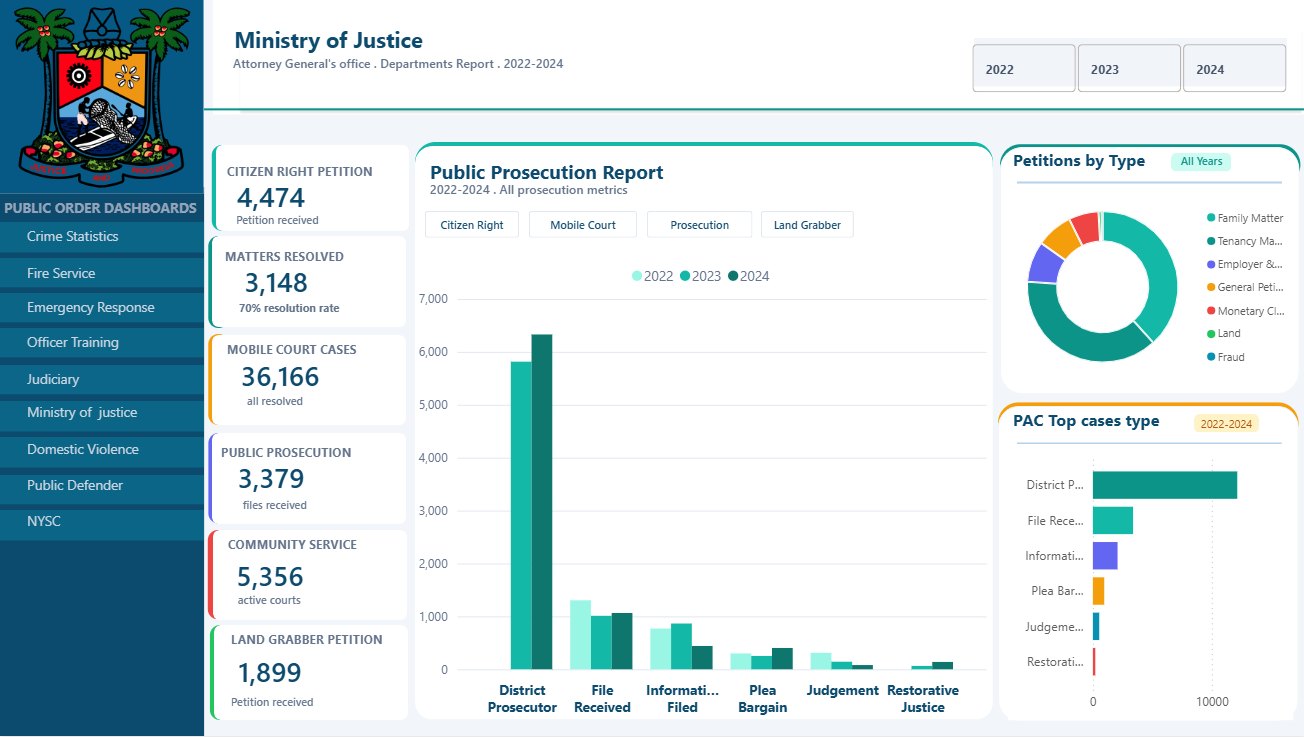

Layout of this report page (visuals, bound fields, positions):
{"tool":"powerbi","page":{"name":"Ministry of Justice","canvas":[1280,720],"ordinal":5},"visuals":[{"type":"shape","box":[95,611.6,242.8,93],"z":0},{"type":"shape","box":[407.1,99.6,565.3,118.2],"z":1000},{"type":"shape","box":[0,182.7,200.6,537.3],"z":2000},{"type":"shape","box":[0,499.1,200.6,29.9],"z":3000},{"type":"shape","box":[0,464.5,200.6,28.7],"z":4000},{"type":"shape","box":[0,427.5,200.6,29.9],"z":5000},{"type":"shape","box":[0,391.6,200.6,29.9],"z":6000},{"type":"shape","box":[0,357,200.6,28.7],"z":7000},{"type":"shape","box":[0,321.2,200.6,28.7],"z":8000},{"type":"shape","box":[0,286.6,200.6,28.7],"z":9000},{"type":"shape","box":[0,251.9,200.6,28.7],"z":10000},{"type":"shape","box":[0,217.3,200.6,29.9],"z":11000},{"type":"shape","box":[94.2,518.6,240.6,87.4],"z":12000},{"type":"shape","box":[209.3,518.3,189.7,88],"z":13000},{"type":"textbox","box":[211.8,0,373,70.6],"z":14000},{"type":"shape","box":[94.2,423.3,241.7,88.5],"z":15000},{"type":"shape","box":[208.3,423.4,189.7,89],"z":16000},{"type":"shape","box":[93.9,326.6,241.5,89],"z":17000},{"type":"shape","box":[208.3,327.6,189.7,88],"z":18000},{"type":"shape","box":[93.9,230.8,241.5,90],"z":19000},{"type":"shape","box":[208.3,230.8,189.7,89],"z":20000},{"type":"shape","box":[97.6,141.8,240.6,84],"z":21000},{"type":"shape","box":[212.2,141.8,188.7,84.1],"z":22000},{"type":"shape","box":[977,375.6,293.9,76],"z":23000},{"type":"shape","box":[209.2,0,1071,112.2],"z":24000},{"type":"shape","box":[0,0,200,189.3],"z":25000},{"type":"shape","box":[947.5,31.8,317.7,59],"z":26000},{"type":"advancedSlicerVisual","fields":{"Values":["YearTable.Year"]},"box":[931.6,35.2,348.4,63.5],"z":27000},{"type":"shape","box":[977,397.2,293.9,308.7],"z":28000},{"type":"shape","box":[407.1,143.1,565.3,560.9],"z":29000},{"type":"shape","box":[979.1,111,293.7,99.1],"z":30000},{"type":"shape","box":[979.3,144.1,292.8,241.7],"z":31000},{"type":"textbox","box":[218.1,153.5,179.9,35.2],"z":32000},{"type":"card","fields":{"Values":["MOJ_Summary_KPIs.Received"]},"box":[218.5,166,95.5,53.7],"z":33000},{"type":"shape","box":[995.2,391.5,258.7,85.1],"z":35000},{"type":"shape","box":[995.4,131,259.1,94.9],"z":36000},{"type":"textbox","box":[986.7,140.6,198.7,48.7],"z":37000},{"type":"textbox","box":[223.5,47.7,377.9,52.2],"z":38000},{"type":"textbox","box":[211.2,18.6,222,54.8],"z":44000},{"type":"textbox","box":[0,189.7,208.3,39.1],"z":45000},{"type":"textbox","box":[22.7,217.3,125.4,29.9],"z":46000},{"type":"textbox","box":[22.7,253.1,115.8,27.5],"z":47000},{"type":"textbox","box":[22.7,286.6,146.9,28.7],"z":48000},{"type":"textbox","box":[22.7,321.2,146.9,28.7],"z":49000},{"type":"textbox","box":[22.7,357,132.5,28.7],"z":50000},{"type":"textbox","box":[22.7,389.3,132.5,34.6],"z":51000},{"type":"textbox","box":[22.7,425.1,132.5,34.6],"z":52000},{"type":"textbox","box":[22.7,460.9,132.5,32.2],"z":53000},{"type":"textbox","box":[22.7,495.5,115.8,33.4],"z":54000},{"type":"textbox","box":[216.1,236.6,183.8,30.3],"z":55000},{"type":"card","fields":{"Values":["MOJ_Summary_KPIs.Resolved"]},"box":[223.5,249.6,94.2,53.3],"z":56000},{"type":"textbox","box":[218.1,327.6,141.8,29.3],"z":57000},{"type":"card","fields":{"Values":["MOJ_Summary_KPIs.Mobile Court Cases"]},"box":[223.5,341.6,102.1,53.3],"z":58000},{"type":"textbox","box":[212.2,428.3,204.4,29.3],"z":59000},{"type":"card","fields":{"Values":["MOJ_Summary_KPIs.PP Files Received"]},"box":[222.9,441,86.1,53.8],"z":60000},{"type":"shape","box":[210.2,611.2,189.7,92.9],"z":61000},{"type":"card","fields":{"Values":["MOJ_Summary_KPIs.Community Service Cases"]},"box":[222.4,536.7,86.2,53.3],"z":62000},{"type":"card","fields":{"Values":["MOJ_Summary_KPIs.LG Petitions"]},"box":[222.4,630.9,86.2,53.3],"z":63000},{"type":"textbox","box":[219,518.6,148.7,30.6],"z":64000},{"type":"textbox","box":[222.4,611.6,167.9,35.2],"z":65000},{"type":"textbox","box":[237.2,377.9,98.7,28.4],"z":66000},{"type":"textbox","box":[214.5,478.9,111.2,34],"z":67000},{"type":"textbox","box":[223.5,571.9,84,48.8],"z":68000},{"type":"textbox","box":[222.4,671.8,154.3,31.8],"z":69000},{"type":"donutChart","fields":{"Category":["MOJ_CR_By_Type.Petition_Type"],"Y":["Sum(MOJ_CR_By_Type.Received)"]},"box":[979.3,182.7,292.8,195.2],"z":76000},{"type":"textbox","box":[208.8,200.9,129.4,31.8],"z":77000},{"type":"card","fields":{"Values":["MOJ_Summary_KPIs.CR Resolution % Label"]},"box":[208.7,286.2,150.8,35.1],"z":81000},{"type":"clusteredColumnChart","fields":{"Category":["MOJ_Public_Prosecution.Metric"],"Y":["Sum(MOJ_Public_Prosecution.Value)"],"Series":["MOJ_Public_Prosecution.Year"]},"box":[405.1,249.6,566.2,458.4],"z":85000},{"type":"textbox","box":[416.6,149.6,418.5,39.1],"z":86000},{"type":"textbox","box":[416.5,171.3,324.5,29.5],"z":87000},{"type":"shape","title":"v","box":[633.2,206.5,103.3,26.1],"z":91000},{"type":"shape","title":"v","box":[518.6,206.5,105.5,26.1],"z":92000},{"type":"shape","title":"v","box":[416.5,206.5,91.9,26.1],"z":93000},{"type":"shape","title":"v","box":[745.5,206.5,90.8,26.1],"z":94000},{"type":"textbox","box":[986.6,395,198.5,39.1],"z":95000},{"type":"shape","box":[1146.1,149.8,59,18.2],"z":96000},{"type":"card","fields":{"Values":["MOJ_Mobile_Court.Mobile Court Badge"]},"box":[1150.6,148.7,49.9,21.6],"z":97000},{"type":"shape","box":[1168.8,405.1,63.5,18.2],"z":98000},{"type":"shape","box":[200.9,61.3,1079.1,90.7],"z":99000},{"type":"image","box":[0,0,200.5,189.7],"z":100000},{"type":"clusteredBarChart","fields":{"Category":["MOJ_Public_Prosecution.Metric"],"Y":["Sum(MOJ_Public_Prosecution.Value)"]},"box":[986.3,434.6,279.4,269.9],"z":101000}]}

Visuals, with their boxes in screenshot pixels (x1, y1, x2, y2), scaled from the page's 1280x720 canvas onto the 1304x737 screenshot:
shape: <box>97,626,344,721</box>
shape: <box>415,102,991,223</box>
shape: <box>0,187,204,736</box>
shape: <box>0,511,204,541</box>
shape: <box>0,475,204,505</box>
shape: <box>0,438,204,468</box>
shape: <box>0,401,204,431</box>
shape: <box>0,365,204,395</box>
shape: <box>0,329,204,358</box>
shape: <box>0,293,204,323</box>
shape: <box>0,258,204,287</box>
shape: <box>0,222,204,253</box>
shape: <box>96,531,341,620</box>
shape: <box>213,531,406,621</box>
textbox: <box>216,0,596,72</box>
shape: <box>96,433,342,524</box>
shape: <box>212,433,405,524</box>
shape: <box>96,334,342,425</box>
shape: <box>212,335,405,425</box>
shape: <box>96,236,342,328</box>
shape: <box>212,236,405,327</box>
shape: <box>99,145,345,231</box>
shape: <box>216,145,408,231</box>
shape: <box>995,384,1295,462</box>
shape: <box>213,0,1303,115</box>
shape: <box>0,0,204,194</box>
shape: <box>965,33,1289,93</box>
advancedSlicerVisual - YearTable.Year: <box>949,36,1303,101</box>
shape: <box>995,407,1295,723</box>
shape: <box>415,146,991,721</box>
shape: <box>997,114,1297,215</box>
shape: <box>998,148,1296,395</box>
textbox: <box>222,157,405,193</box>
card - MOJ_Summary_KPIs.Received: <box>223,170,320,225</box>
shape: <box>1014,401,1277,488</box>
shape: <box>1014,134,1278,231</box>
textbox: <box>1005,144,1208,194</box>
textbox: <box>228,49,613,102</box>
textbox: <box>215,19,441,75</box>
textbox: <box>0,194,212,234</box>
textbox: <box>23,222,151,253</box>
textbox: <box>23,259,141,287</box>
textbox: <box>23,293,173,323</box>
textbox: <box>23,329,173,358</box>
textbox: <box>23,365,158,395</box>
textbox: <box>23,398,158,434</box>
textbox: <box>23,435,158,471</box>
textbox: <box>23,472,158,505</box>
textbox: <box>23,507,141,541</box>
textbox: <box>220,242,407,273</box>
card - MOJ_Summary_KPIs.Resolved: <box>228,255,324,310</box>
textbox: <box>222,335,367,365</box>
card - MOJ_Summary_KPIs.Mobile Court Cases: <box>228,350,332,404</box>
textbox: <box>216,438,424,468</box>
card - MOJ_Summary_KPIs.PP Files Received: <box>227,451,315,506</box>
shape: <box>214,626,407,721</box>
card - MOJ_Summary_KPIs.Community Service Cases: <box>227,549,314,604</box>
card - MOJ_Summary_KPIs.LG Petitions: <box>227,646,314,700</box>
textbox: <box>223,531,375,562</box>
textbox: <box>227,626,398,662</box>
textbox: <box>242,387,342,416</box>
textbox: <box>219,490,332,525</box>
textbox: <box>228,585,313,635</box>
textbox: <box>227,688,384,720</box>
donutChart - MOJ_CR_By_Type.Petition_Type x Sum(MOJ_CR_By_Type.Received): <box>998,187,1296,387</box>
textbox: <box>213,206,345,238</box>
card - MOJ_Summary_KPIs.CR Resolution % Label: <box>213,293,366,329</box>
clusteredColumnChart - MOJ_Public_Prosecution.Metric x Sum(MOJ_Public_Prosecution.Value): <box>413,255,990,725</box>
textbox: <box>424,153,851,193</box>
textbox: <box>424,175,755,206</box>
"v" shape: <box>645,211,750,238</box>
"v" shape: <box>528,211,636,238</box>
"v" shape: <box>424,211,518,238</box>
"v" shape: <box>759,211,852,238</box>
textbox: <box>1005,404,1207,444</box>
shape: <box>1168,153,1228,172</box>
card - MOJ_Mobile_Court.Mobile Court Badge: <box>1172,152,1223,174</box>
shape: <box>1191,415,1255,433</box>
shape: <box>205,63,1303,156</box>
image: <box>0,0,204,194</box>
clusteredBarChart - MOJ_Public_Prosecution.Metric x Sum(MOJ_Public_Prosecution.Value): <box>1005,445,1289,721</box>
